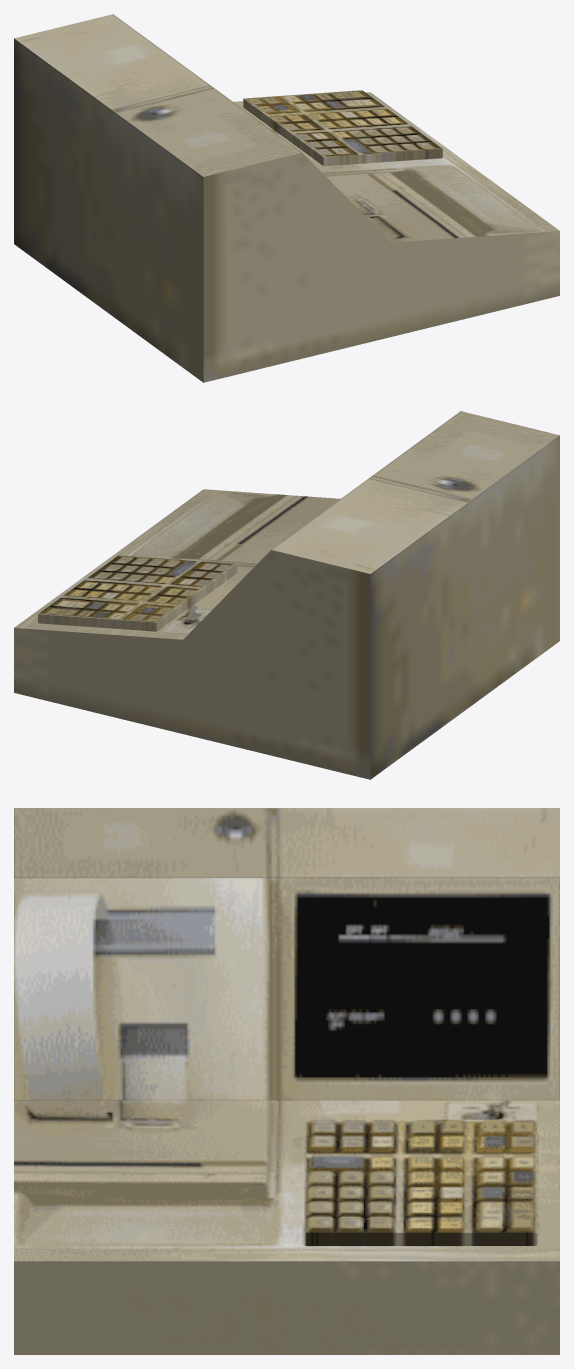
The model's file is register.fbx.
3 views of the same model, one above another, from view 1: azimuth 30°, elevation 25°; view 2: azimuth 150°, elevation 25°; view 3: azimuth 270°, elevation 25° (orthographic). The views are drawn at different scales.
Parts seen in each view (by area): view 1: Register; view 2: Register; view 3: Register.
Part boxes in pixels (x1=…): Register: x1=14, y1=14, x2=559, y2=382; Register: x1=14, y1=411, x2=559, y2=779; Register: x1=14, y1=808, x2=559, y2=1354.
Size of the model in its own units: 33.88 by 18.69 by 31.2.
Materials: 1 (1 with a texture image).
